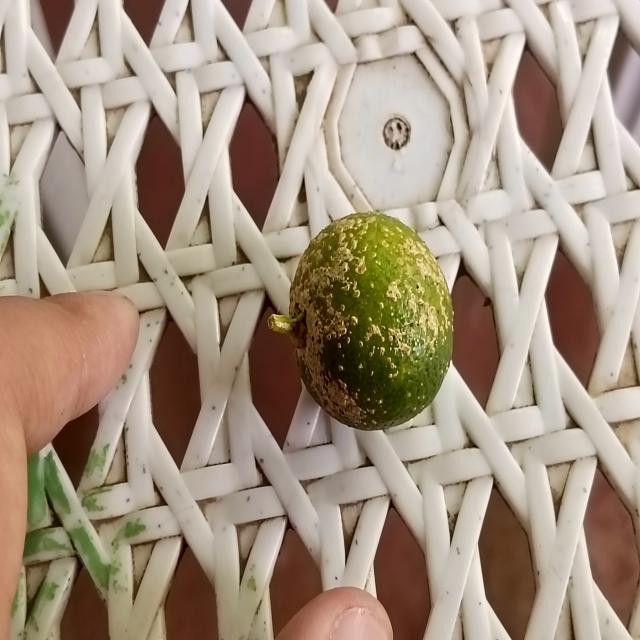scab: (288, 209, 454, 430)
